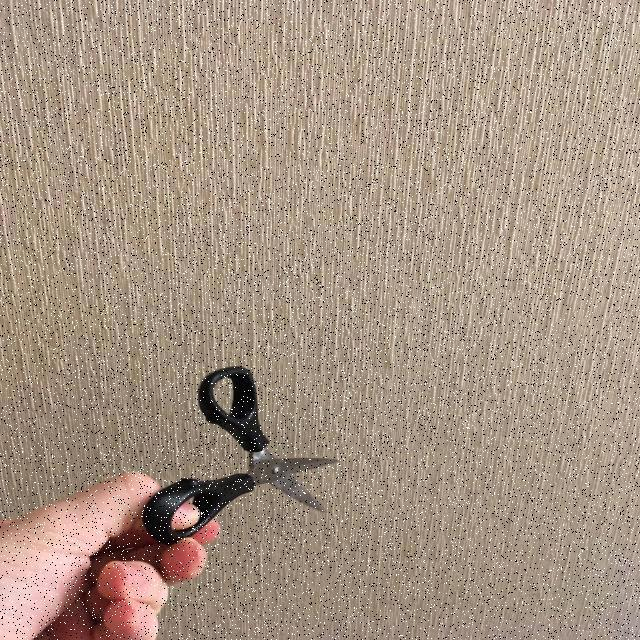scissors: (140, 363, 344, 544)
